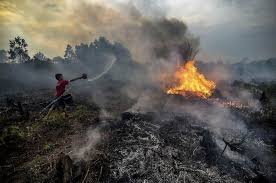fire: (164, 60, 218, 99)
smoke: (34, 6, 202, 60)
